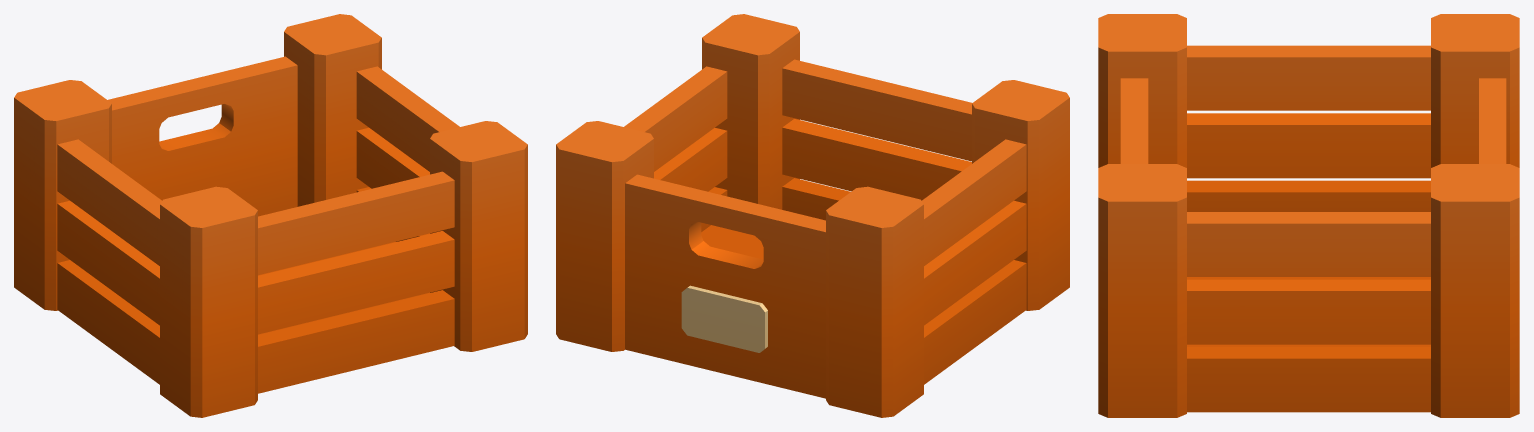
Rendered from Counter_F_Food_Storage_01.fbx.
The picture shows the model from 3 angles, left to right: view 1: azimuth 30°, elevation 25°; view 2: azimuth 150°, elevation 25°; view 3: azimuth 270°, elevation 25°; orthographic projection. The views are drawn at different scales.
Parts seen in each view (by area): view 1: Counter_F_Food_Storage_01; view 2: Counter_F_Food_Storage_01; view 3: Counter_F_Food_Storage_01.
Boxes of the visible parts, <box> form: Counter_F_Food_Storage_01: <box>14,14,527,417</box>; Counter_F_Food_Storage_01: <box>556,14,1069,417</box>; Counter_F_Food_Storage_01: <box>1098,14,1519,417</box>.
Size of the model in its own units: 100 by 53.8 by 94.97.
